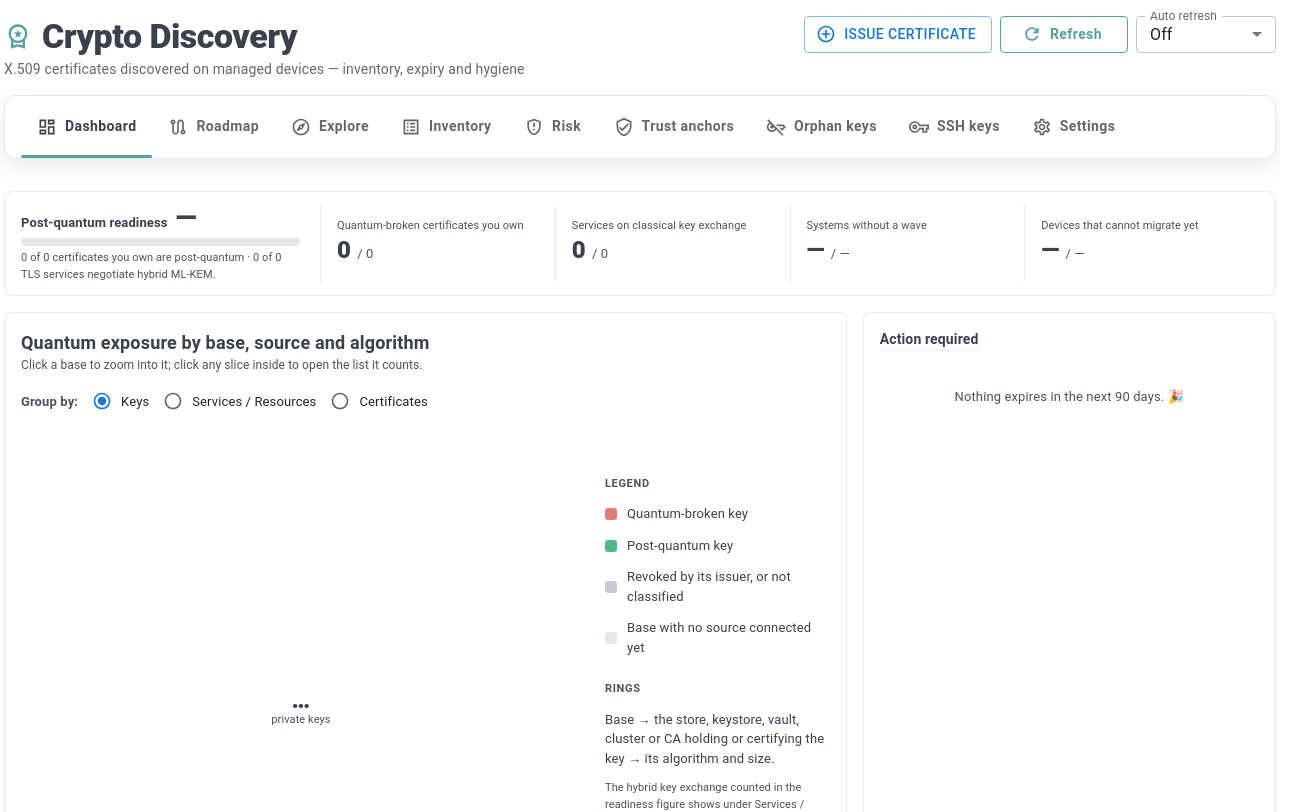
Test: pestaña Trust anchors › ⚠️ monta sin reventar y enseña las anclas
The image size is (1292, 812).
Click the tab "Trust anchors": (674, 127) [598,96,750,158]
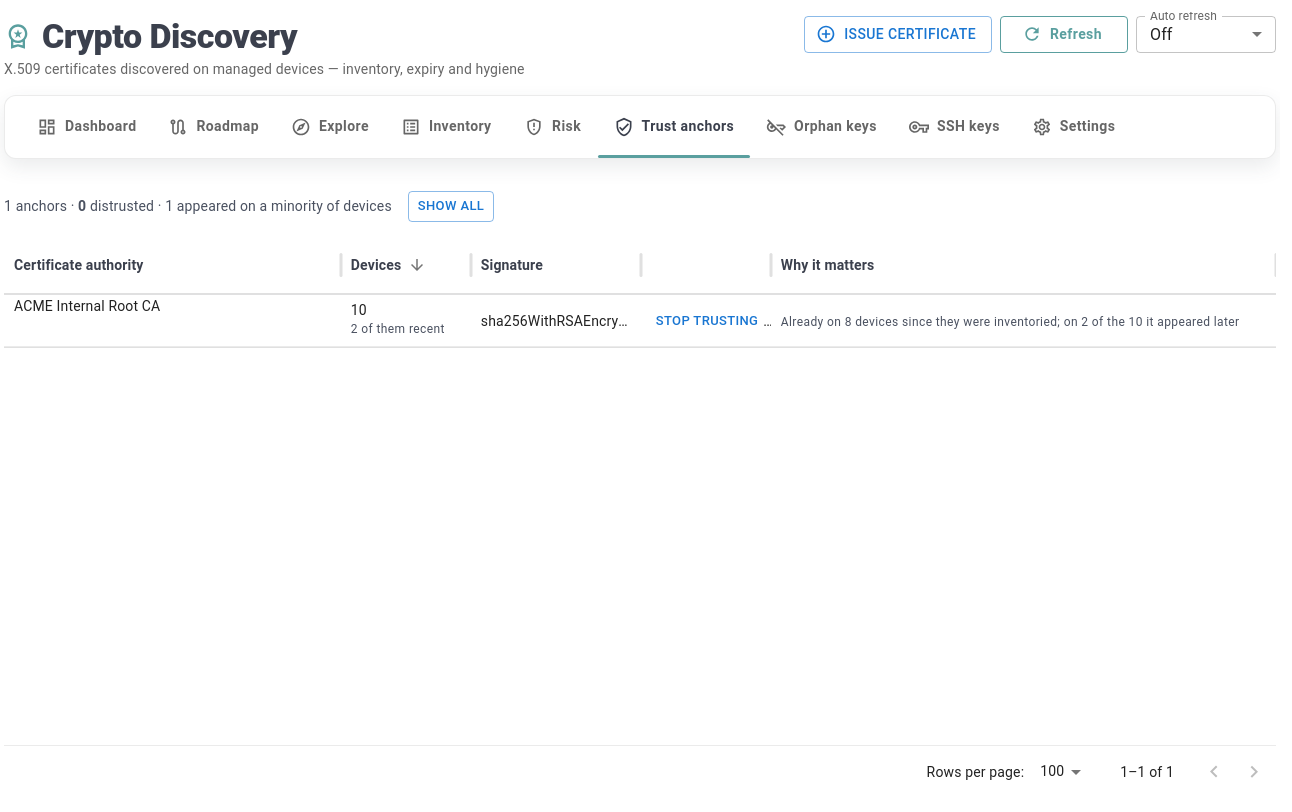
Expected: the text "ACME Internal Root CA" is shown, [14,296,160,316]
